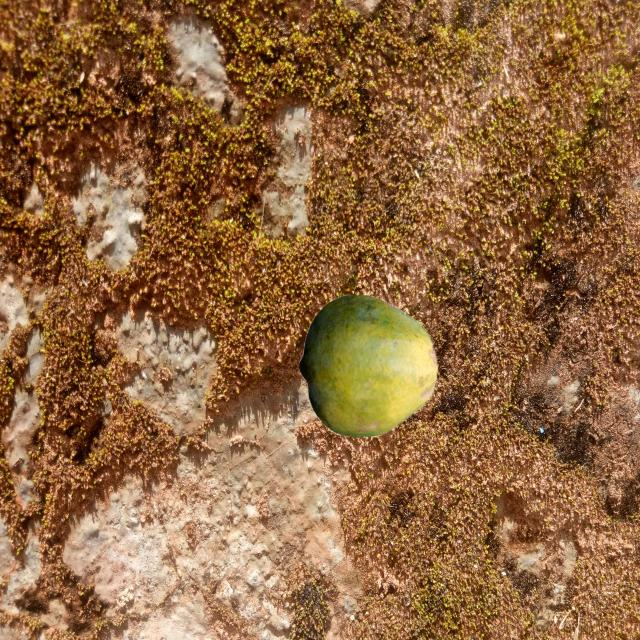Pepaya rippen: (284, 288, 444, 452)
